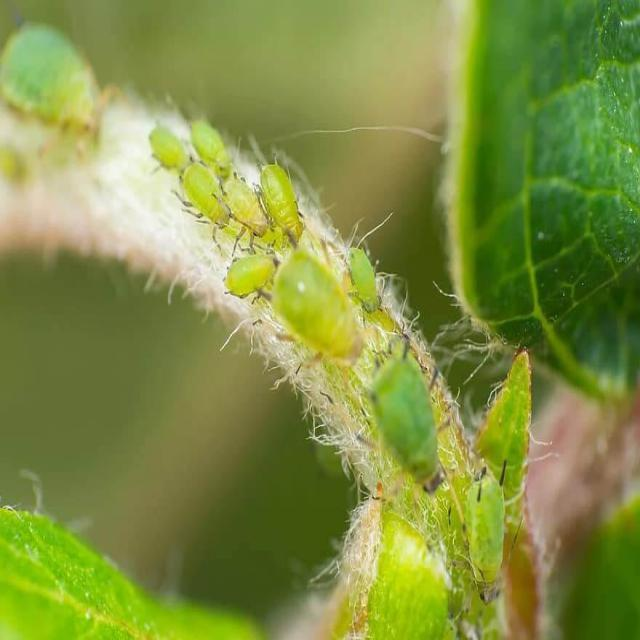Aphids: (276, 245, 379, 399), (361, 352, 450, 505), (462, 448, 509, 618), (253, 135, 321, 243), (204, 229, 274, 328), (139, 109, 204, 200), (342, 223, 396, 326), (168, 154, 229, 235), (178, 87, 234, 174), (220, 163, 277, 246)
